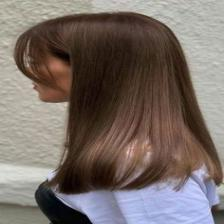brown: (18, 17, 162, 193)
